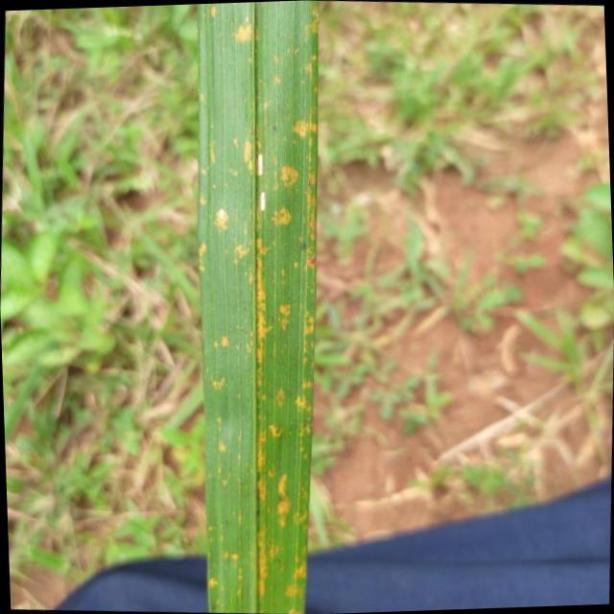Kalium: (197, 0, 320, 614)
